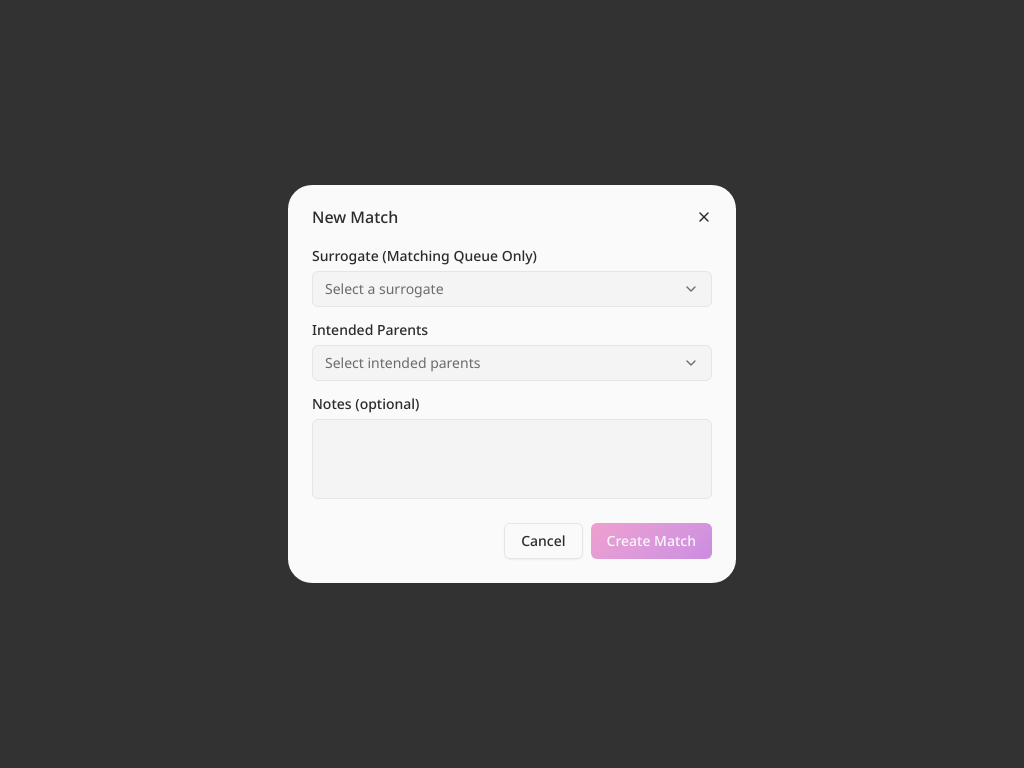
NewMatchDialog › lists only surrogates in a stage that is eligible for matching
Expected: the dialog "New Match" is shown, x1=288 y1=185 x2=736 y2=583
Press the mouse on the dropdown named "surrogate (matching queue only)" at {"x": 384, "y": 288}, box x1=312 y1=271 x2=712 y2=307
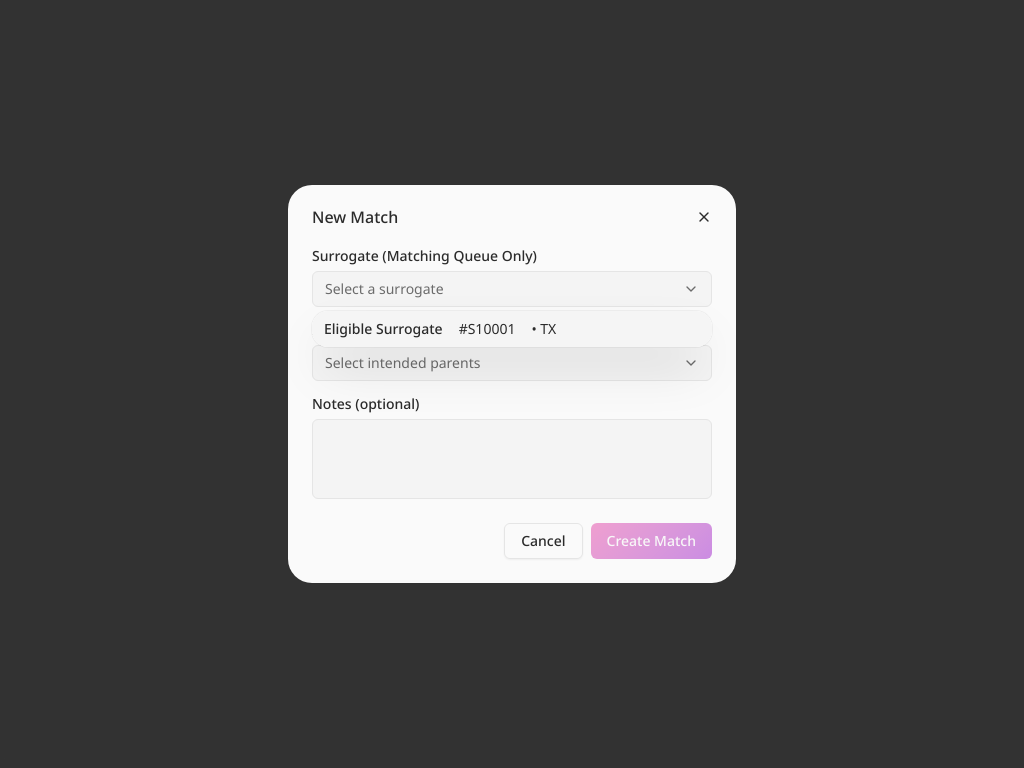
Expected: the option "Eligible Surrogate #S10001 • TX" is shown, x1=312 y1=311 x2=712 y2=347
